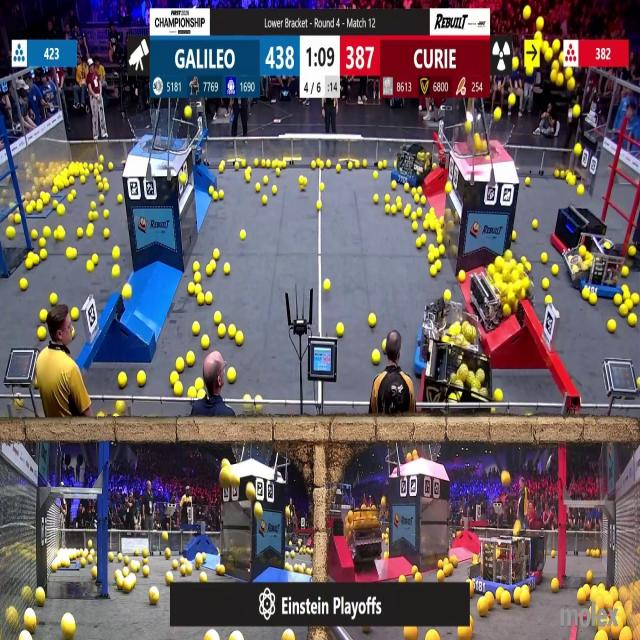ball_airborne: (220, 467, 235, 488), (405, 626, 418, 640), (246, 483, 255, 500), (253, 502, 261, 517), (500, 471, 509, 484), (535, 18, 543, 32), (573, 143, 581, 156), (572, 105, 580, 118), (474, 138, 481, 152), (566, 78, 574, 90), (556, 74, 564, 86), (494, 108, 501, 120), (184, 106, 191, 118), (524, 7, 531, 19), (554, 40, 561, 52), (526, 67, 534, 77), (221, 460, 229, 470), (514, 58, 520, 71), (544, 49, 551, 60), (510, 95, 517, 106), (465, 120, 471, 132), (565, 68, 572, 78), (532, 58, 539, 68), (577, 184, 583, 195), (534, 32, 541, 41), (553, 61, 559, 71), (180, 173, 186, 183)
ball_ground: (62, 616, 76, 640), (26, 612, 38, 634), (36, 588, 46, 606), (521, 590, 530, 608), (479, 598, 488, 616), (576, 589, 586, 605), (500, 593, 510, 609), (149, 588, 158, 605), (117, 374, 126, 388), (176, 358, 185, 372), (138, 372, 146, 387), (282, 630, 294, 640), (338, 322, 346, 336), (367, 314, 375, 328), (552, 580, 560, 594), (186, 352, 194, 366), (373, 350, 381, 364), (444, 565, 454, 576), (427, 630, 438, 640), (115, 400, 124, 412), (125, 582, 134, 594), (227, 367, 234, 382), (202, 337, 210, 350), (122, 285, 130, 298), (38, 326, 46, 339), (191, 321, 199, 334), (174, 383, 182, 396), (194, 378, 202, 391), (434, 245, 442, 258), (608, 320, 616, 332), (494, 389, 502, 401), (171, 372, 179, 384), (628, 314, 636, 326), (68, 248, 76, 260), (237, 333, 244, 346), (118, 575, 124, 590), (589, 293, 597, 304), (218, 325, 225, 337), (214, 312, 221, 324), (59, 229, 66, 241), (112, 266, 119, 278), (205, 291, 212, 303), (19, 278, 26, 290), (167, 571, 174, 583), (7, 228, 14, 240), (227, 325, 234, 337), (587, 570, 594, 582), (583, 287, 590, 299), (193, 284, 201, 294), (622, 268, 630, 278), (206, 632, 216, 640), (629, 247, 637, 257), (195, 554, 201, 567), (193, 273, 200, 284), (188, 283, 195, 294), (540, 252, 547, 263), (445, 289, 452, 300), (213, 249, 220, 260), (217, 564, 224, 575), (198, 293, 205, 304), (207, 265, 214, 276), (621, 306, 628, 317), (50, 292, 56, 304), (459, 271, 465, 283), (72, 308, 78, 320), (40, 310, 46, 322), (93, 566, 99, 578), (542, 278, 548, 290), (113, 247, 119, 259), (187, 388, 195, 397), (624, 286, 630, 298), (381, 341, 387, 353), (13, 399, 22, 407), (323, 280, 330, 290), (415, 572, 422, 582), (440, 246, 447, 256), (88, 264, 95, 274), (76, 230, 83, 240), (616, 294, 623, 304), (43, 226, 50, 236), (198, 389, 205, 399), (435, 236, 442, 246), (421, 235, 428, 245), (232, 633, 242, 640), (202, 571, 208, 582), (223, 265, 229, 276), (40, 249, 46, 260), (434, 262, 440, 273), (396, 200, 402, 211), (41, 191, 47, 202), (36, 204, 44, 212), (31, 231, 38, 240), (59, 206, 66, 215), (416, 208, 423, 217), (504, 250, 511, 259), (104, 230, 110, 240), (532, 219, 538, 229), (192, 263, 198, 273), (143, 566, 149, 576), (428, 253, 434, 263), (403, 208, 409, 218), (430, 268, 436, 278), (27, 261, 33, 271), (88, 229, 94, 239), (633, 293, 639, 303), (263, 197, 269, 207), (182, 567, 188, 577), (452, 245, 458, 255), (439, 570, 445, 580), (123, 556, 129, 566), (34, 254, 40, 264), (180, 558, 186, 568), (161, 534, 167, 544), (398, 574, 405, 582), (121, 568, 128, 576), (253, 160, 260, 168), (596, 633, 604, 640), (93, 254, 99, 263), (39, 239, 45, 248), (423, 221, 429, 230), (13, 214, 19, 223), (390, 206, 396, 215), (68, 193, 74, 202), (348, 163, 354, 172), (298, 176, 304, 185), (218, 165, 224, 174), (172, 560, 178, 569), (80, 558, 86, 567), (415, 194, 421, 203), (429, 221, 435, 230), (272, 161, 278, 170), (115, 569, 121, 578), (53, 564, 59, 573), (117, 555, 123, 564), (241, 231, 246, 241), (553, 266, 558, 276), (372, 195, 377, 205), (119, 195, 124, 205), (447, 183, 452, 193), (164, 550, 169, 560), (202, 553, 207, 563), (244, 175, 251, 182), (544, 295, 550, 303), (403, 183, 409, 191), (108, 164, 114, 172), (316, 202, 322, 210), (90, 212, 96, 220), (420, 198, 426, 206), (235, 164, 241, 172), (98, 182, 104, 190), (355, 162, 361, 170), (371, 172, 377, 180), (555, 170, 561, 178), (51, 200, 57, 208), (108, 554, 114, 562), (267, 161, 273, 169), (51, 185, 57, 193), (18, 634, 26, 640), (592, 551, 598, 559), (219, 189, 224, 198), (273, 185, 278, 194), (97, 196, 102, 205), (104, 182, 109, 191), (412, 186, 417, 195), (99, 165, 104, 174), (524, 178, 530, 185), (244, 394, 250, 401), (97, 176, 103, 183), (69, 180, 75, 187), (325, 162, 331, 169), (82, 170, 88, 177), (255, 394, 261, 401), (428, 245, 434, 252), (246, 168, 252, 175), (99, 413, 105, 420), (407, 205, 413, 212), (413, 222, 418, 230), (385, 194, 390, 202), (255, 183, 260, 191), (417, 240, 422, 248), (391, 181, 396, 189), (513, 232, 517, 242), (384, 553, 389, 561), (386, 205, 390, 215), (104, 211, 109, 219), (92, 202, 97, 210), (383, 162, 388, 170), (28, 206, 33, 214), (527, 265, 532, 273), (412, 212, 417, 220), (100, 155, 105, 163), (282, 162, 287, 170), (89, 556, 94, 564), (437, 560, 442, 568), (636, 378, 640, 388), (265, 176, 269, 185), (214, 193, 218, 202), (242, 161, 246, 170), (28, 252, 34, 258), (209, 186, 214, 193), (417, 186, 422, 193), (80, 176, 85, 183), (71, 189, 76, 196), (320, 182, 324, 190), (362, 161, 366, 169), (277, 169, 281, 177), (338, 165, 342, 173), (522, 256, 526, 264), (312, 162, 316, 170), (143, 558, 148, 564), (552, 552, 557, 558), (103, 178, 108, 184), (143, 552, 148, 558), (492, 410, 496, 416)
goal: (462, 116, 516, 158), (128, 116, 186, 151)
robot_blue: (561, 215, 624, 303), (471, 529, 536, 595), (392, 144, 434, 188)
robot_red: (414, 343, 488, 412), (471, 255, 518, 332), (343, 506, 389, 573), (438, 0, 491, 7)
